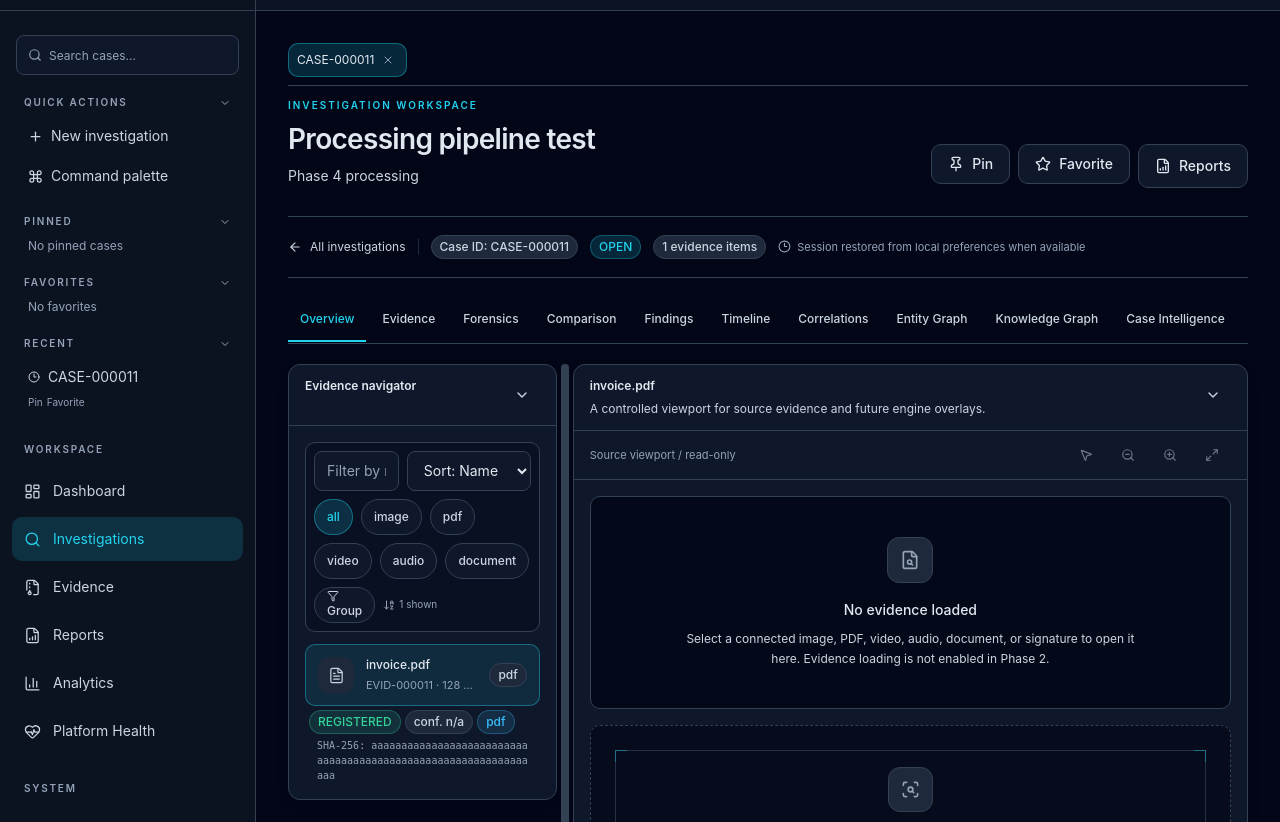
Scenario: Phase 4 evidence processing › starts processing and displays the successful job and artifact
What coordinates should you click on to do the following:
click the tab "Evidence"
I would click on:
 (409, 320)
Its box is [370,298,447,342].
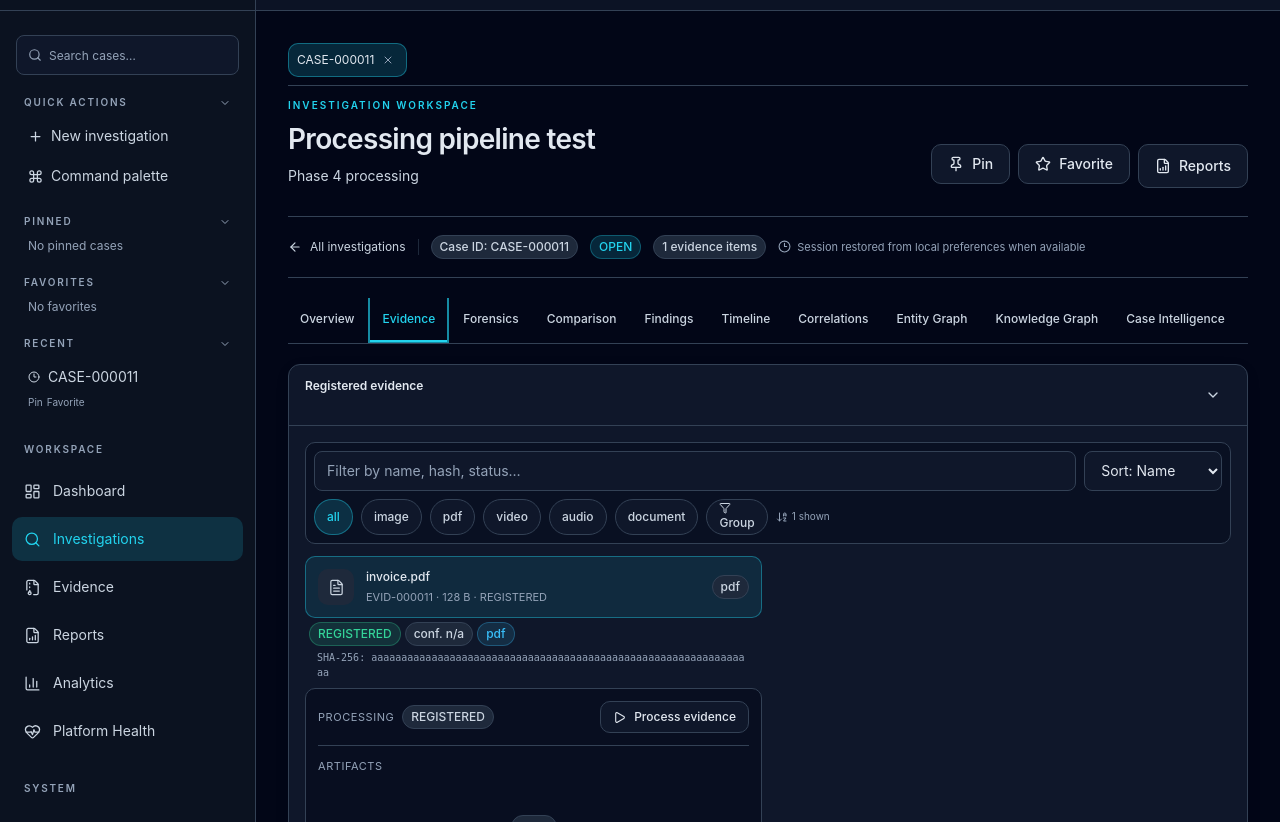
What coordinates should you click on to do the following:
click the button "Process evidence"
I would click on:
 (675, 717)
Its box is [600,701,749,733].
(page scrolled)
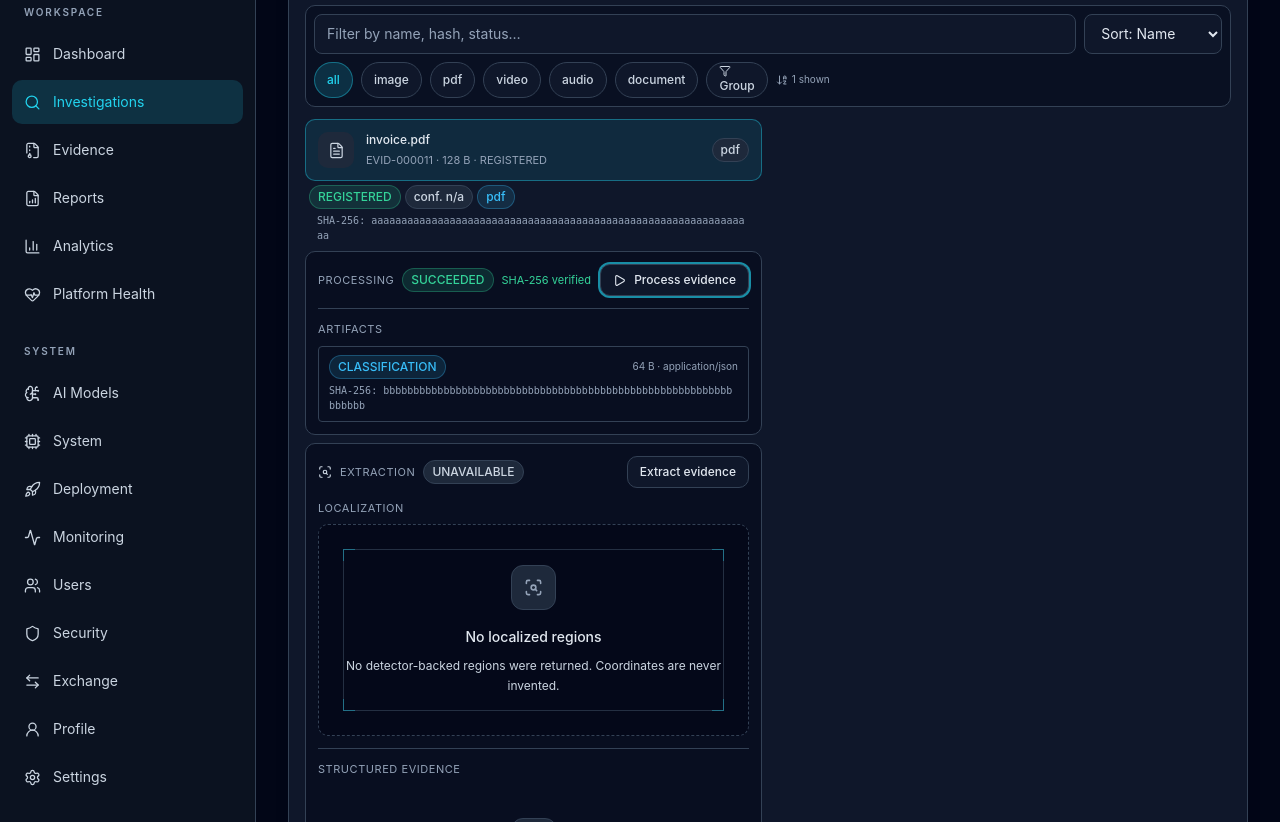
Expected: the text "SUCCEEDED" is shown, [402,268,494,292]
Expected: the text "CLASSIFICATION" is shown, [329,355,446,379]
